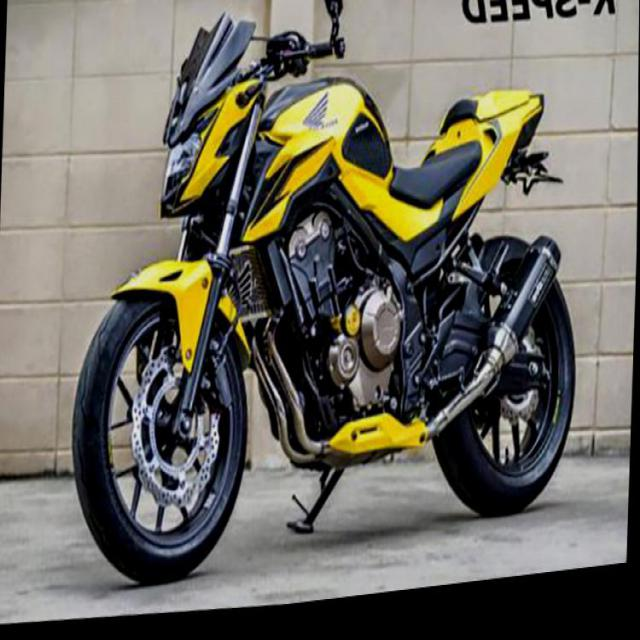CB500F: (65, 0, 590, 621)
